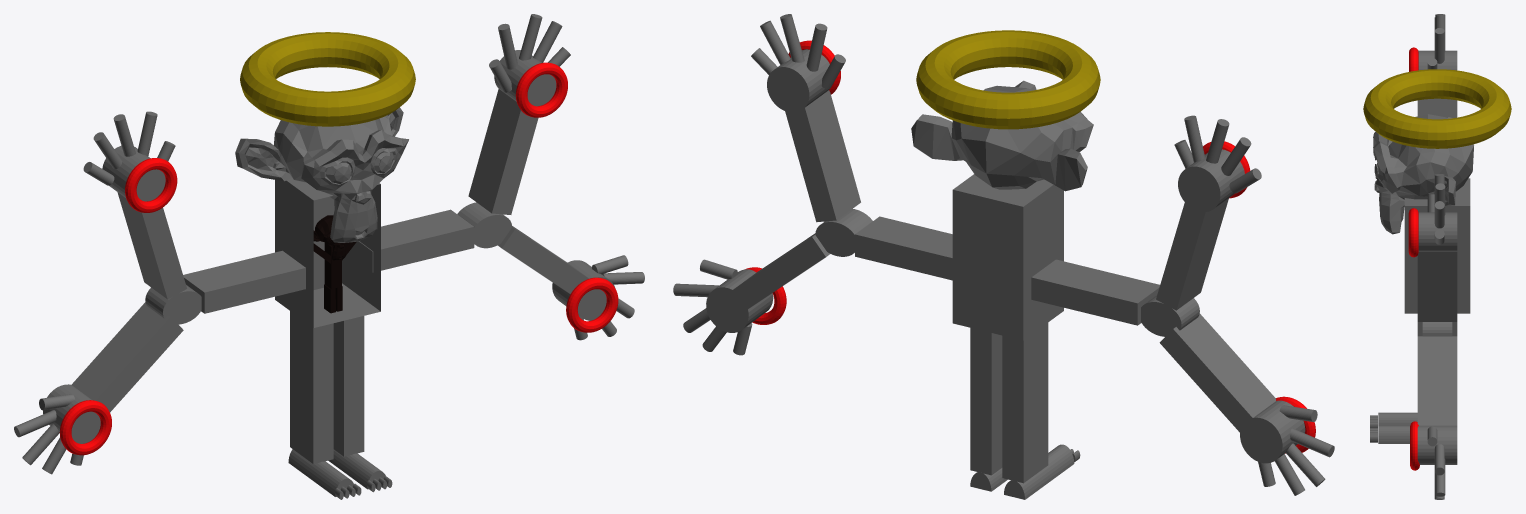
File: MechaMonkey.dae
3 views of the same model, side by side, from view 1: azimuth 30°, elevation 25°; view 2: azimuth 150°, elevation 25°; view 3: azimuth 270°, elevation 25° (orthographic). The views are drawn at different scales.
Parts seen in each view (by area): view 1: Torus, Mech_Head, Mech_Torso, Mech_Left_Leg, Mech_Left_Forearm-001, Mech_Right_Forearm, Mech_Left_Upper_Arm, Mech_Right_Upper_Arm, Mech_Right_Leg, Mech_Left_Forearm, Mech_Right_Forearm-001, Torus-004 (+12 smaller); view 2: Mech_Torso, Torus, Mech_Head, Mech_Left_Leg, Mech_Left_Forearm-001, Mech_Right_Forearm, Mech_Left_Upper_Arm, Mech_Right_Leg, Mech_Right_Upper_Arm, Mech_Left_Forearm, Mech_Right_Forearm-001, Mech_Left_Palm-001 (+6 smaller); view 3: Torus, Mech_Head, Mech_Right_Forearm-001, Mech_Torso, Mech_Right_Forearm, Mech_Right_Palm, Mech_Right_Palm-001, Mech_Left_Forearm, Mecha_Right_Foot, Mech_Left_Palm, Mecha_Left_Foot, Torus-003 (+10 smaller).
Part boxes in pixels (bbox=[...]): Torus: bbox=[240, 32, 415, 126]; Mech_Head: bbox=[235, 107, 408, 242]; Mech_Torso: bbox=[275, 177, 380, 327]; Mech_Left_Leg: bbox=[290, 311, 333, 463]; Mech_Left_Forearm-001: bbox=[71, 302, 183, 412]; Mech_Right_Forearm: bbox=[468, 89, 538, 214]; Mech_Left_Upper_Arm: bbox=[183, 250, 305, 313]; Mech_Right_Upper_Arm: bbox=[349, 209, 474, 272]; Mech_Right_Leg: bbox=[333, 316, 364, 456]; Mech_Left_Forearm: bbox=[117, 192, 186, 299]; Mech_Right_Forearm-001: bbox=[498, 226, 588, 293]; Torus-004: bbox=[566, 277, 618, 332]; Mech_Torso: bbox=[952, 174, 1063, 340]; Torus: bbox=[916, 30, 1100, 129]; Mech_Head: bbox=[911, 80, 1093, 191]; Mech_Left_Leg: bbox=[1002, 323, 1048, 483]; Mech_Left_Forearm-001: bbox=[1159, 313, 1275, 433]; Mech_Right_Forearm: bbox=[784, 90, 860, 222]; Mech_Left_Upper_Arm: bbox=[1031, 259, 1159, 325]; Mech_Right_Leg: bbox=[970, 328, 1002, 475]; Mech_Right_Upper_Arm: bbox=[855, 216, 952, 280]; Mech_Left_Forearm: bbox=[1156, 198, 1228, 310]; Mech_Right_Forearm-001: bbox=[732, 233, 830, 310]; Mech_Left_Palm-001: bbox=[1240, 400, 1305, 463]; Torus: bbox=[1363, 69, 1511, 148]; Mech_Head: bbox=[1373, 114, 1473, 234]; Mech_Right_Forearm-001: bbox=[1417, 336, 1457, 425]; Mech_Torso: bbox=[1404, 178, 1470, 313]; Mech_Right_Forearm: bbox=[1417, 252, 1457, 321]; Mech_Right_Palm: bbox=[1418, 212, 1457, 251]; Mech_Right_Palm-001: bbox=[1417, 425, 1457, 464]; Mech_Left_Forearm: bbox=[1417, 98, 1457, 118]; Mecha_Right_Foot: bbox=[1378, 425, 1409, 443]; Mech_Left_Palm: bbox=[1418, 50, 1457, 70]; Mecha_Left_Foot: bbox=[1378, 412, 1417, 425]; Torus-003: bbox=[1408, 208, 1418, 257].
Bounding box in the file's own units: 30.84 × 18.87 × 7.5.
